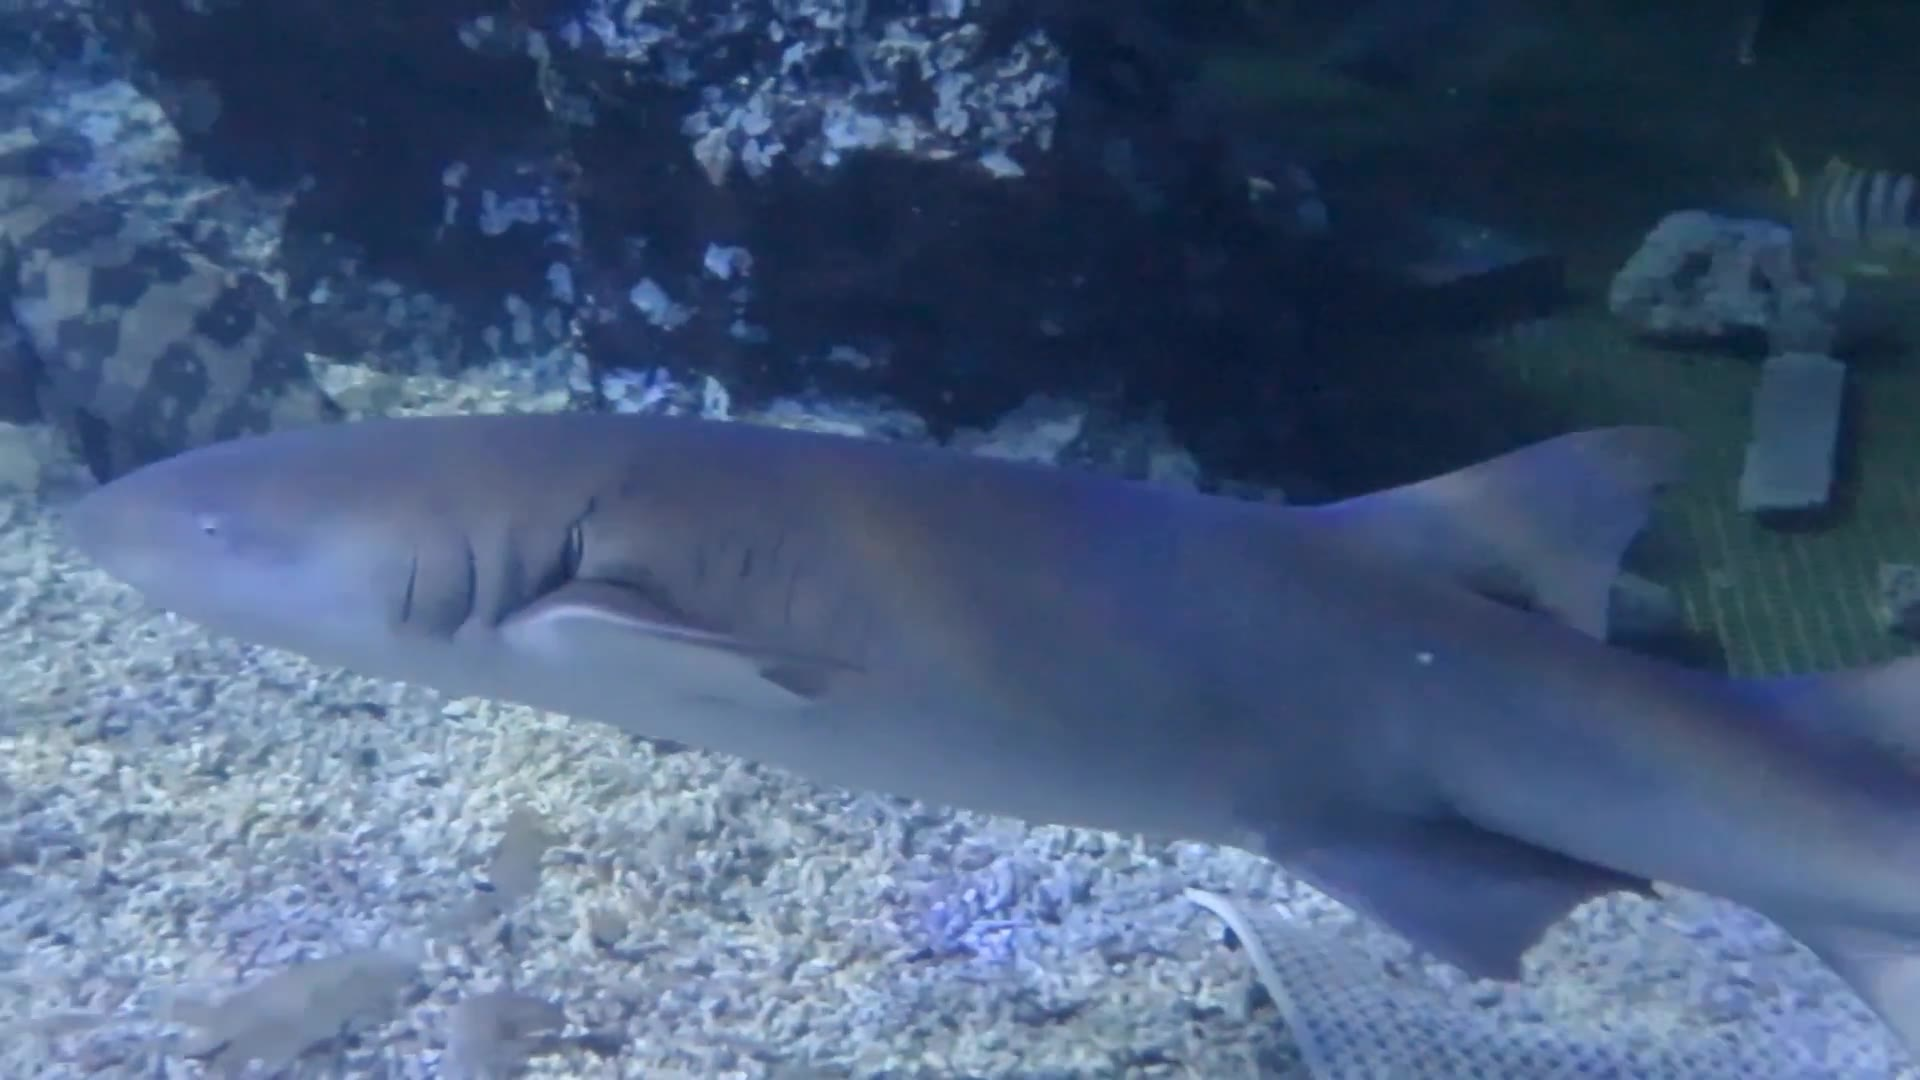Nebrius ferrugineus: (61, 392, 1873, 887)
